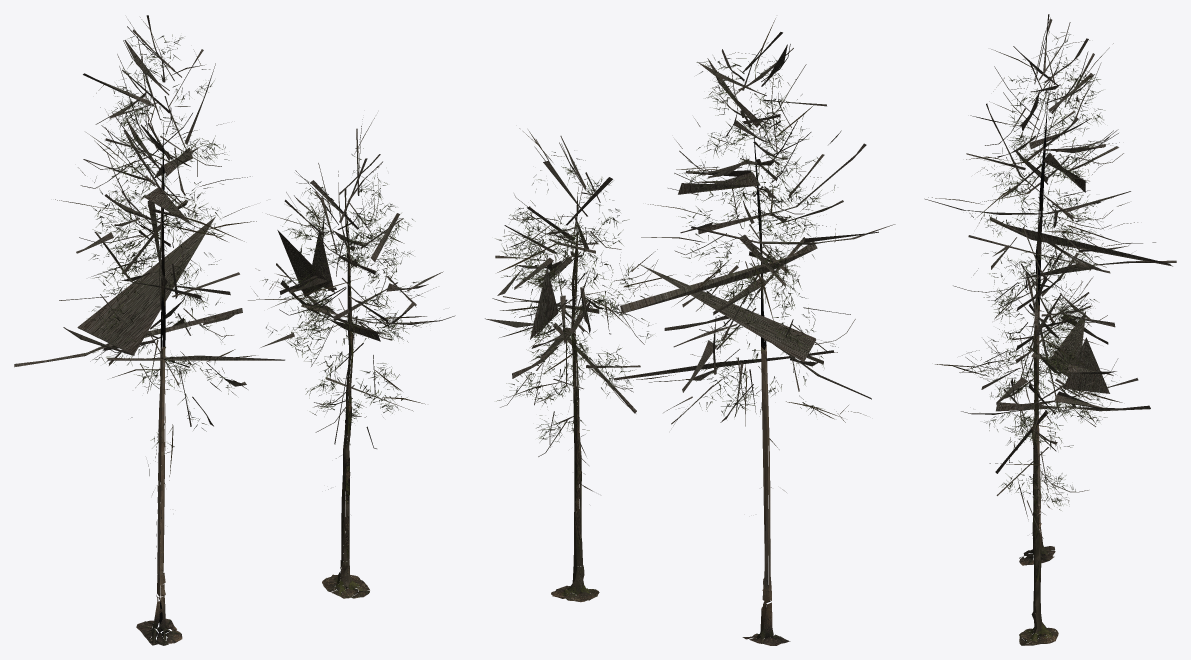
Rendered from fir_tree_01.glb.
The picture shows the model from 3 angles, left to right: view 1: azimuth 30°, elevation 25°; view 2: azimuth 150°, elevation 25°; view 3: azimuth 270°, elevation 25°; orthographic projection. The views are drawn at different scales.
Parts seen in each view (by area): view 1: fir_tree_01_a_LOD0, fir_tree_01_b_LOD0; view 2: fir_tree_01_a_LOD0, fir_tree_01_b_LOD0; view 3: fir_tree_01_a_LOD0, fir_tree_01_b_LOD0.
Part boxes in pixels (box(x1,y1,x2,y2)): fir_tree_01_a_LOD0: box(14, 15, 284, 645); fir_tree_01_b_LOD0: box(248, 118, 455, 598); fir_tree_01_a_LOD0: box(614, 18, 895, 645); fir_tree_01_b_LOD0: box(485, 128, 673, 602); fir_tree_01_a_LOD0: box(924, 14, 1176, 565); fir_tree_01_b_LOD0: box(935, 248, 1150, 645).
Size of the model in its own units: 12.97 by 18.86 by 8.02.
5 materials, 5 textured.
